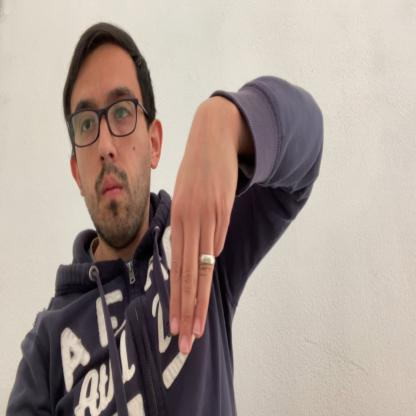M: (169, 76, 239, 355)
